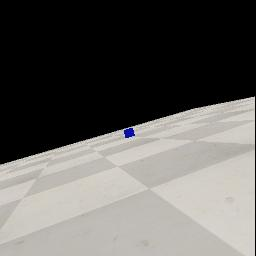box: (124, 128, 135, 138)
